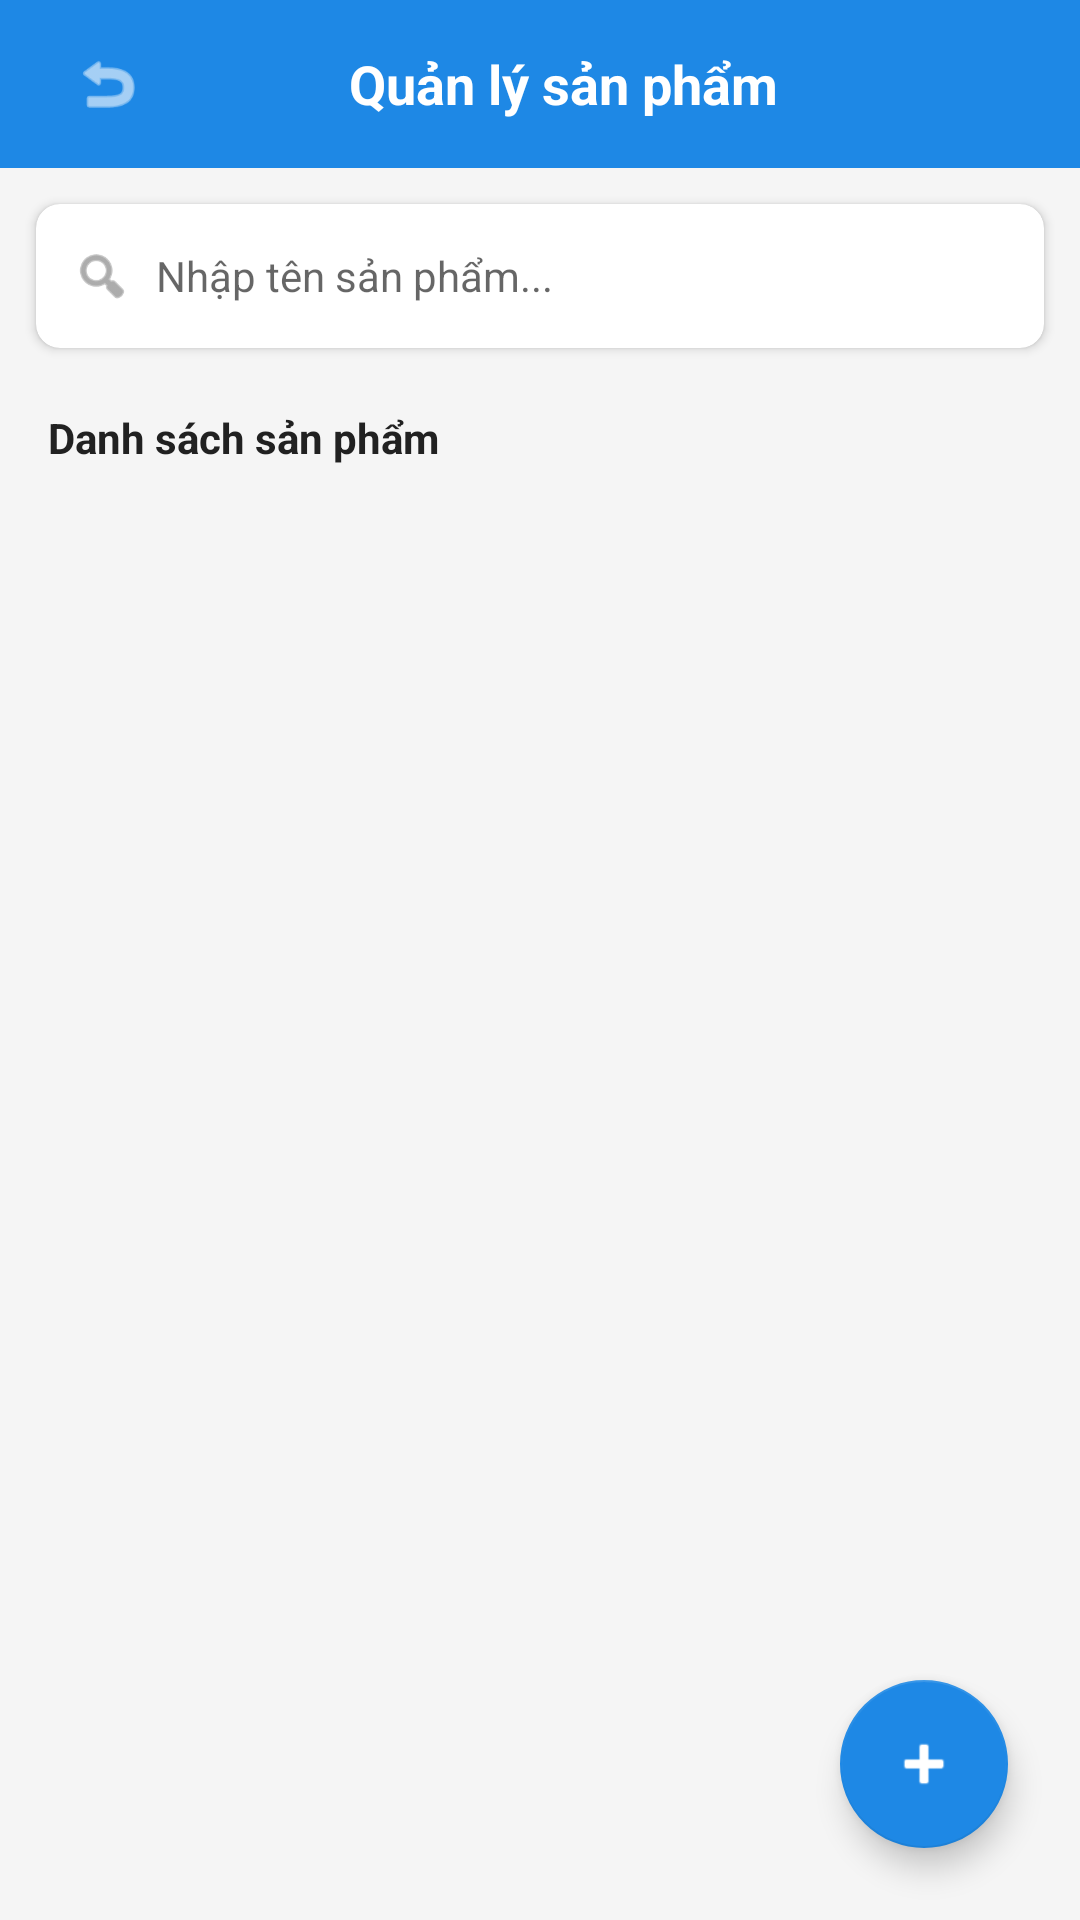

Icon click points for this 1080 × 1920 phone screenshot, format (x=x, y=y):
add: (x=924, y=1764)
revert: (x=109, y=84)
search: (x=102, y=276)
